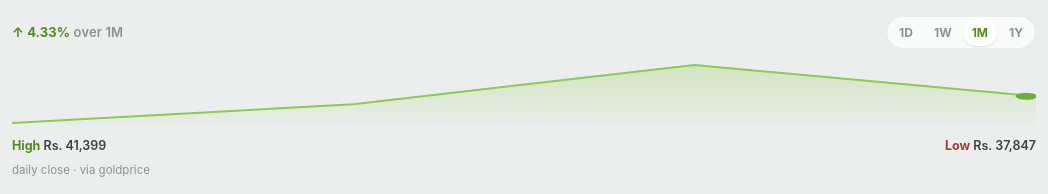
range selection › does not refetch a range it has already loaded
expect the text "High Rs. 41,399" is shown: met, box [12,137,106,156]
Click the tab "1D" at (906, 33), box [889,19,923,46]
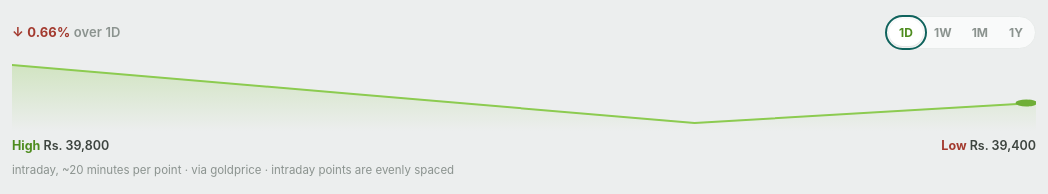
expect the text "High Rs. 39,800" is shown: met, box [12,137,109,156]
Click the tab "1M" at (980, 33), box [963,19,997,46]
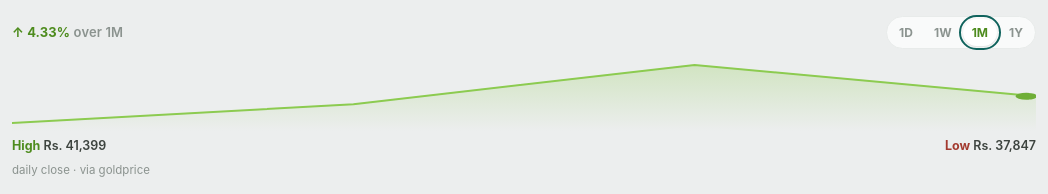
expect the text "High Rs. 41,399" is shown: met, box [12,137,106,156]
